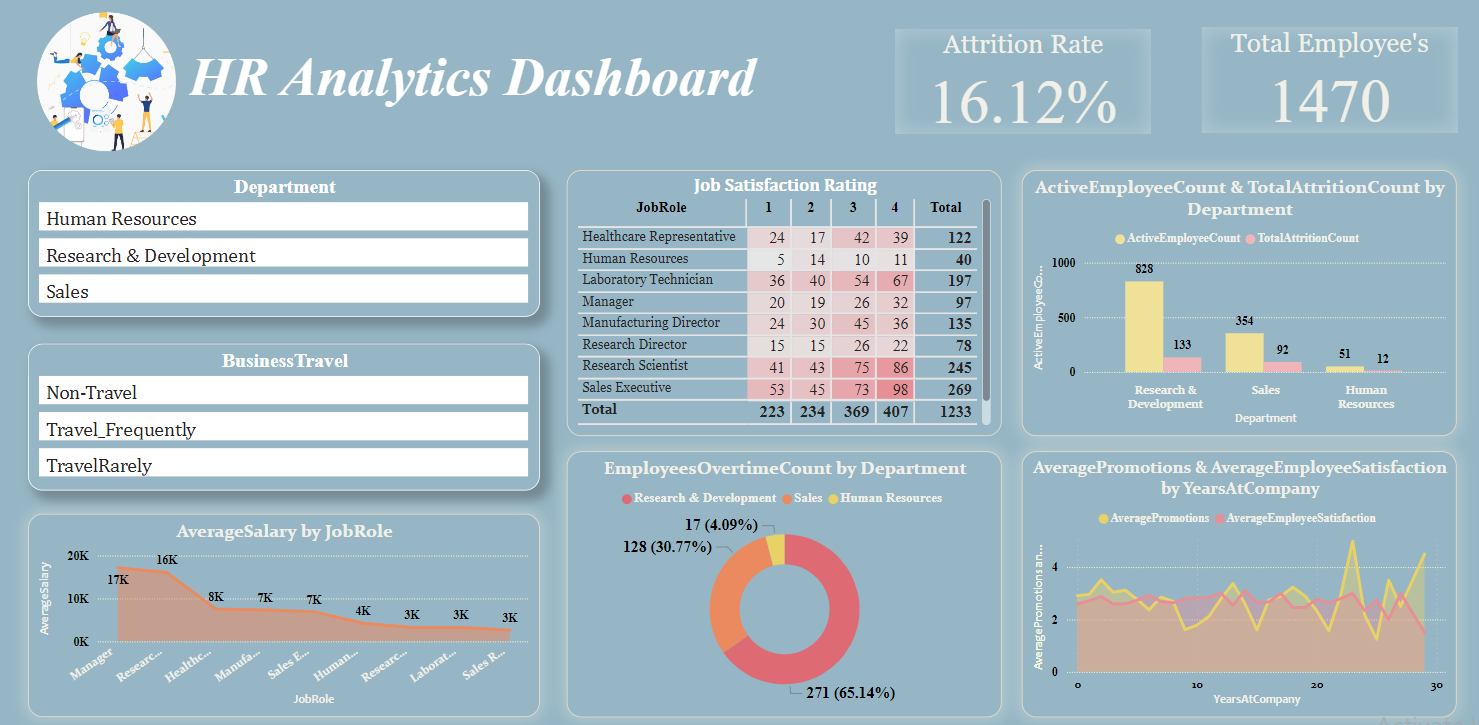

What the dashboard file says about the page in this screenshot:
{"tool":"powerbi","page":{"name":"Page 1","canvas":[1520,750],"ordinal":0},"visuals":[{"type":"clusteredColumnChart","title":"ActiveEmployeeCount & TotalAttritionCount by Department","fields":{"Y":["Sheet1.ActiveEmployeeCount","Sheet1.TotalAttritionCount"],"Category":["Sheet1.Department"]},"box":[1043.5,178.3,443.5,271],"z":0},{"type":"areaChart","title":"AveragePromotions  & AverageEmployeeSatisfaction by YearsAtCompany","fields":{"Category":["Sheet1.YearsAtCompany"],"Y":["Sheet1.AveragePromotions","Sheet1.AverageEmployeeSatisfaction"]},"box":[1043.5,465.2,443.5,271],"z":1000},{"type":"donutChart","fields":{"Category":["Sheet1.Department"],"Y":["Sheet1.EmployeesOvertimeCount"]},"box":[579.7,465.2,443.5,271],"z":2000},{"type":"pivotTable","title":"Job Satisfaction Rating","fields":{"Rows":["Sheet1.JobRole"],"Columns":["Sheet1.JobSatisfaction"],"Values":["Sheet1.ActiveEmployeeCount"]},"box":[579.7,178.3,443.5,271],"z":3000},{"type":"advancedSlicerVisual","fields":{"Values":["Sheet1.Department"]},"box":[30.4,178.3,521.7,149.3],"z":4000},{"type":"advancedSlicerVisual","fields":{"Values":["Sheet1.BusinessTravel"]},"box":[30.4,355.1,521.7,149.3],"z":5000},{"type":"areaChart","fields":{"Y":["Sheet1.AverageSalary"],"Category":["Sheet1.JobRole"]},"box":[30.4,529,521.7,207.2],"z":6000},{"type":"card","title":"Total Employee''s","fields":{"Values":["Sheet1.TotalEmployeeCount"]},"box":[1226.1,33.3,260.9,107.2],"z":7000},{"type":"card","title":"Attrition Rate","fields":{"Values":["Sheet1.AttritionRate"]},"box":[914.7,33.8,260.3,107.4],"z":8000},{"type":"textbox","box":[189.7,47.1,595.6,80.9],"z":9000},{"type":"image","box":[10.2,12.7,201.3,151.6],"z":9001}]}

Visuals, with their boxes in screenshot pixels (x1, y1, x2, y2), scaled from the page's 1520x750 canvas onto the 1479x725 screenshot:
"ActiveEmployeeCount & TotalAttritionCount by Department" clusteredColumnChart: <box>1015,172,1447,434</box>
"AveragePromotions  & AverageEmployeeSatisfaction by YearsAtCompany" areaChart: <box>1015,450,1447,712</box>
donutChart - Sheet1.Department x Sheet1.EmployeesOvertimeCount: <box>564,450,996,712</box>
"Job Satisfaction Rating" pivotTable: <box>564,172,996,434</box>
advancedSlicerVisual - Sheet1.Department: <box>30,172,537,317</box>
advancedSlicerVisual - Sheet1.BusinessTravel: <box>30,343,537,488</box>
areaChart - Sheet1.AverageSalary x Sheet1.JobRole: <box>30,511,537,712</box>
"Total Employee''s" card: <box>1193,32,1447,136</box>
"Attrition Rate" card: <box>890,33,1143,136</box>
textbox: <box>185,46,764,124</box>
image: <box>10,12,206,159</box>
